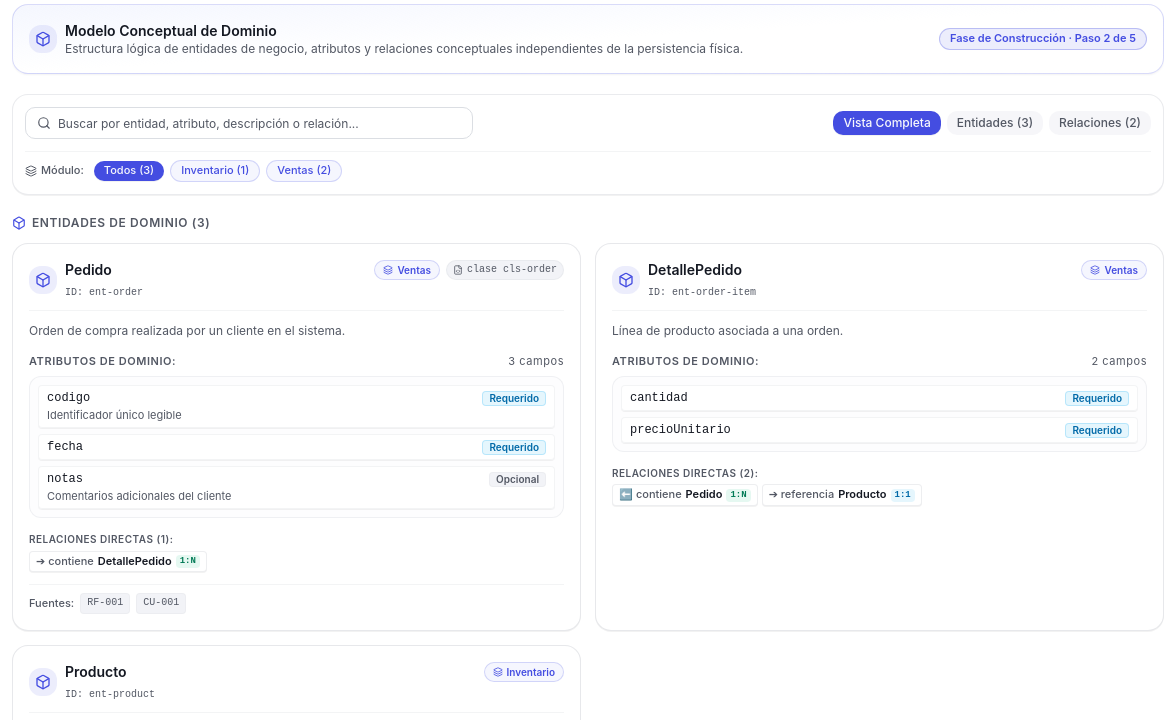
Test case: ConceptualModelDetail › switches view mode between entities and relationships
Note: Switch to Relaciones view
Click the button "Relaciones (2)" at (1100,123), box x1=1049 y1=111 x2=1151 y2=135
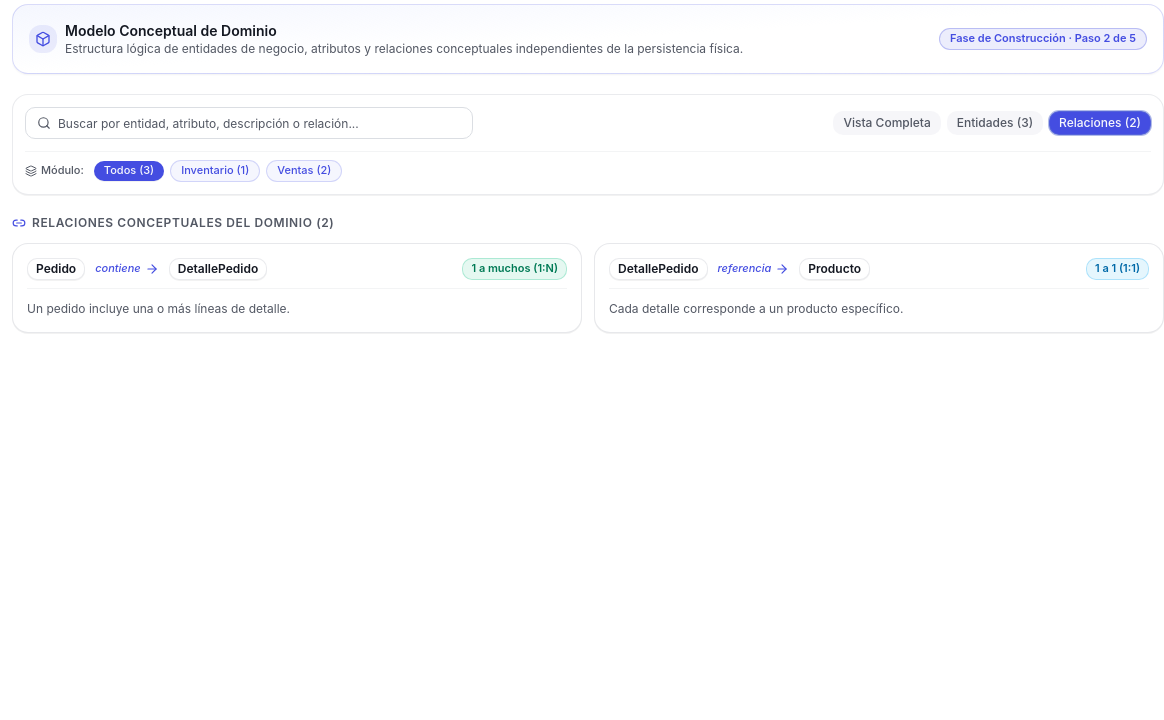
Expected: the text "1 a muchos (1:N)" is shown, x1=462 y1=258 x2=567 y2=280
Result: the text "Identificador único legible" is gone
Note: Switch to Entidades view
Click the button "Entidades (3)" at (995,123), box x1=947 y1=111 x2=1043 y2=135
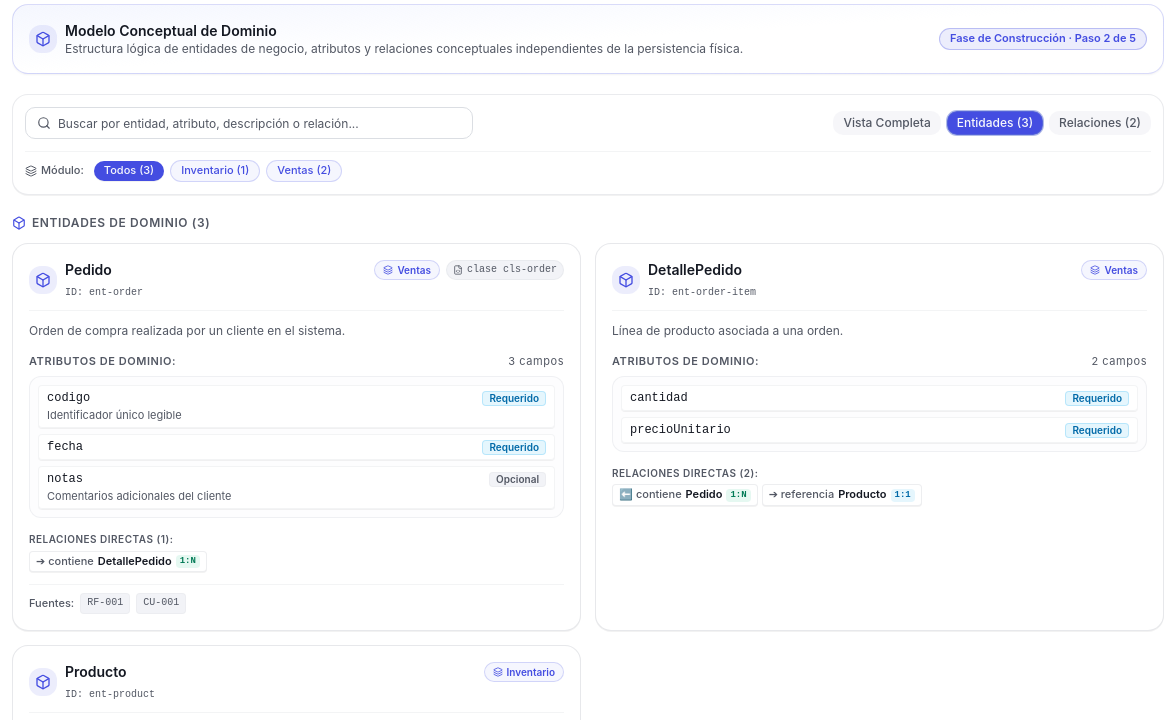
Result: the heading "Pedido" is shown at x1=65 y1=261 x2=112 y2=278
Result: the text "Identificador único legible" is shown at x1=47 y1=408 x2=182 y2=422
